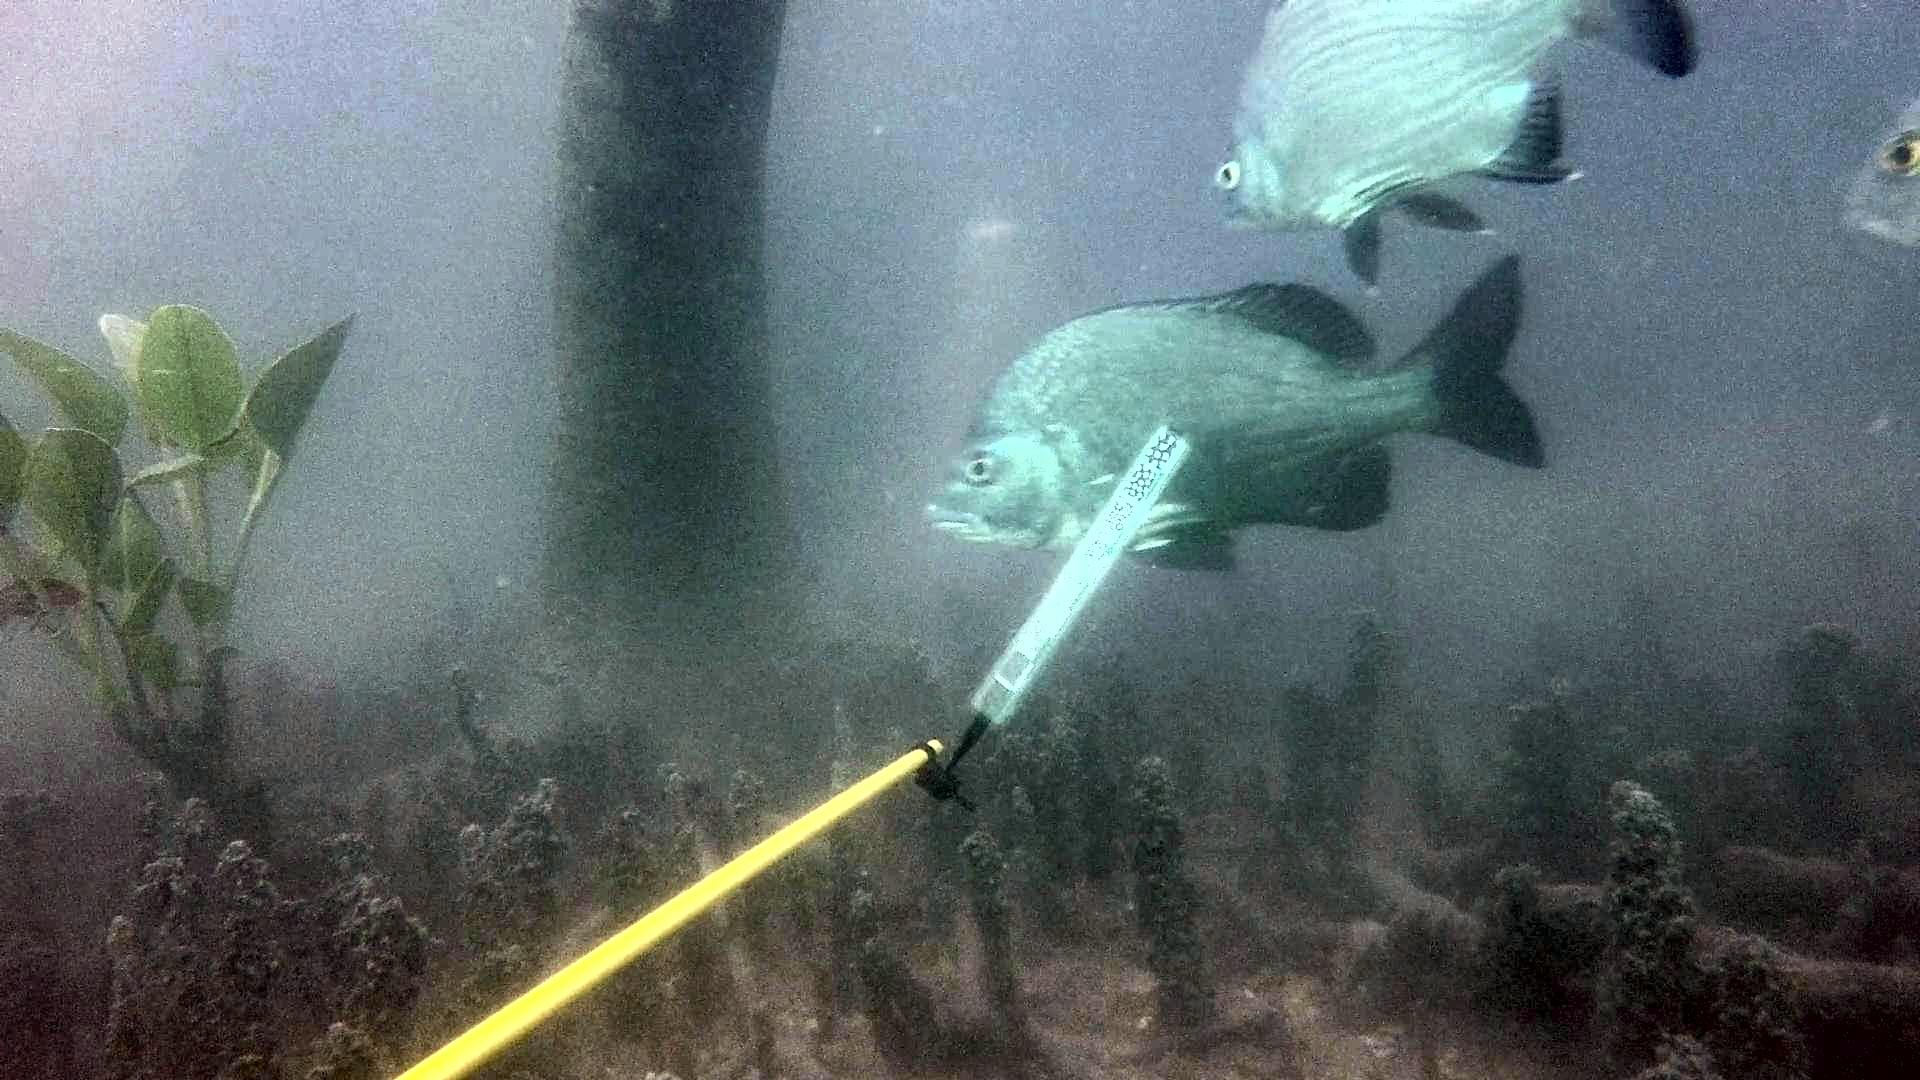acanthopagrus palmaris: (906, 246, 1567, 588), (1208, 0, 1712, 298)
caranx: (1821, 68, 1920, 268)
